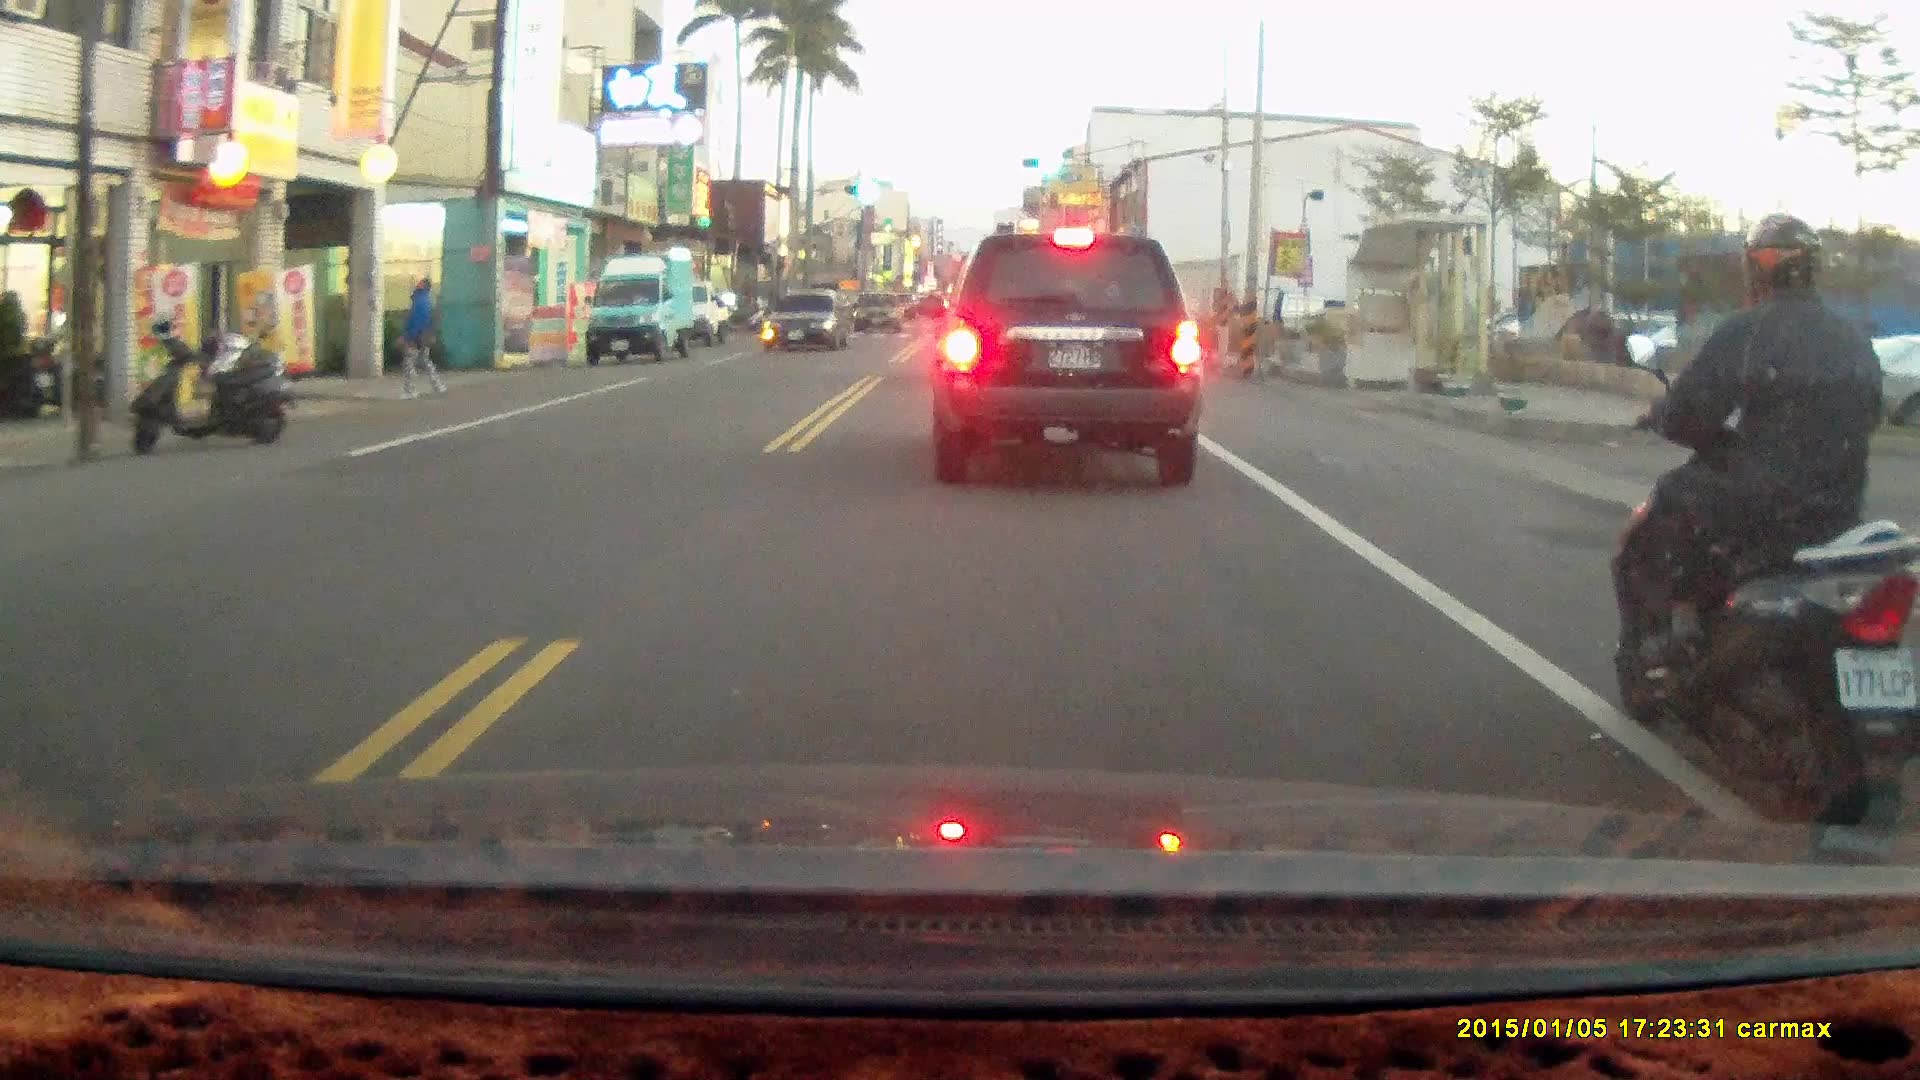pedestrian: (396, 273, 445, 403)
rider: (1611, 211, 1918, 832)
vehicle: (925, 229, 1207, 482), (581, 250, 700, 368), (762, 288, 856, 352), (854, 292, 907, 337)
